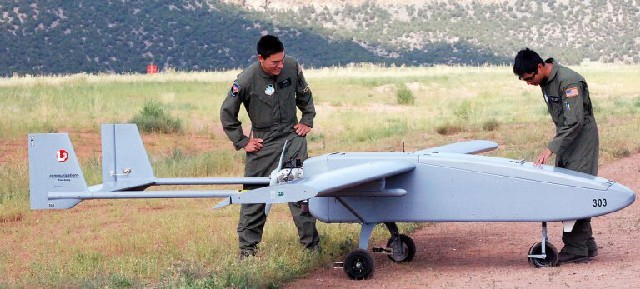maybay_khongnguoilai: (26, 118, 634, 263)
